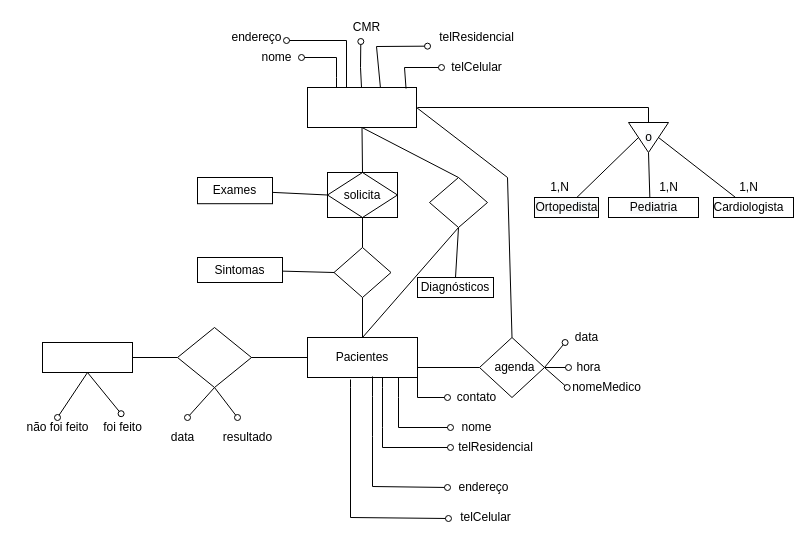
The diagram is 811 pixels wide and 544 high, and some of its shapes have lost their labels. Here are the shapes that lost their labels. From the top down, the box of each, then its label:
(306, 86, 416, 128): Médicos
(428, 176, 488, 228): repassa
(333, 246, 391, 298): captura
(42, 342, 132, 372): Clínicas
(176, 326, 252, 388): faz exames
